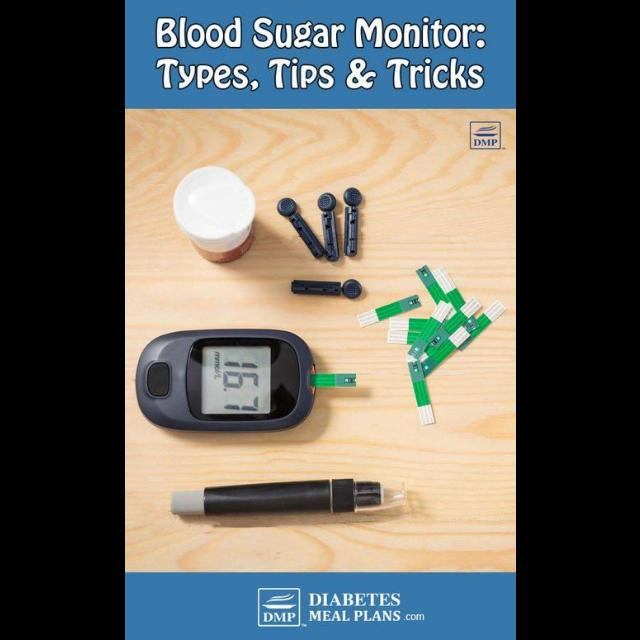Glucose-Meter: (135, 329, 355, 431)
